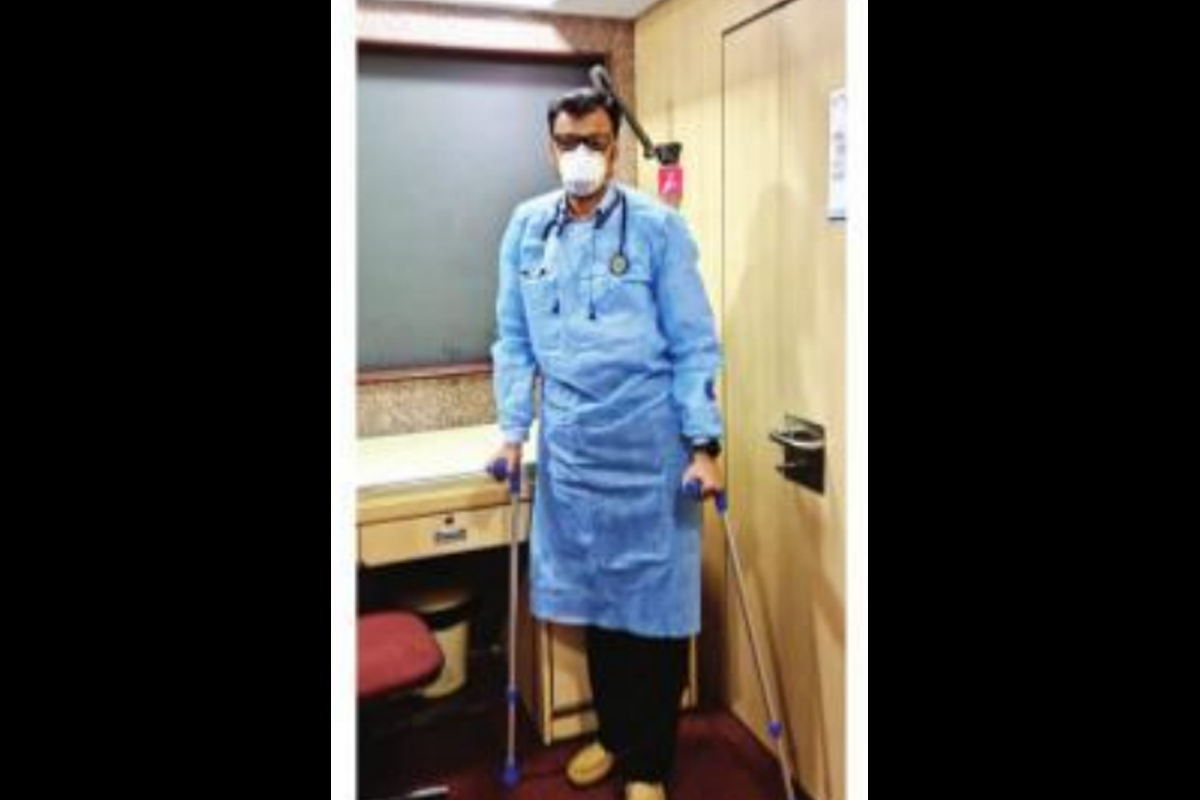crutches: (485, 87, 795, 800)
